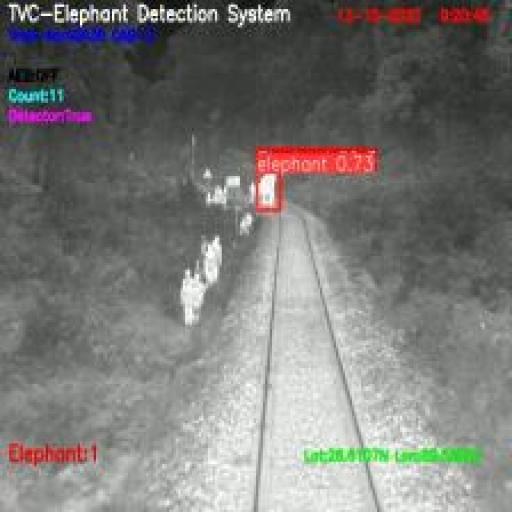Elephant: (256, 174, 278, 210)
